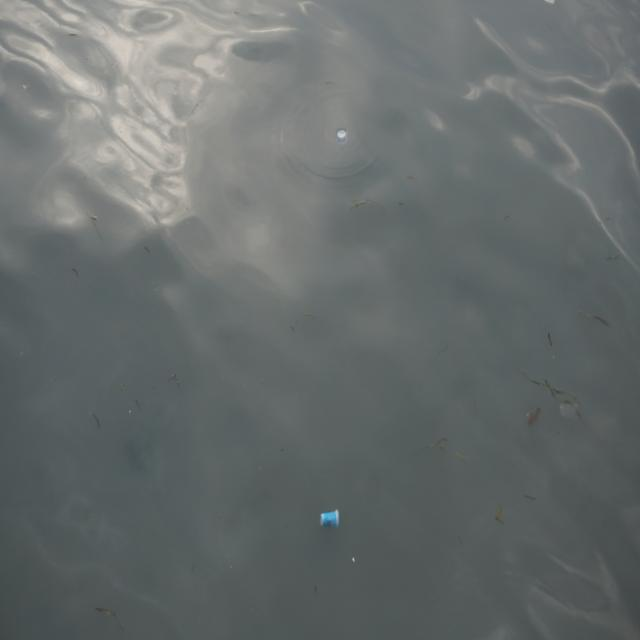Botol Plastik: (336, 125, 351, 148)
Bungkus Minuman: (316, 507, 346, 541)
